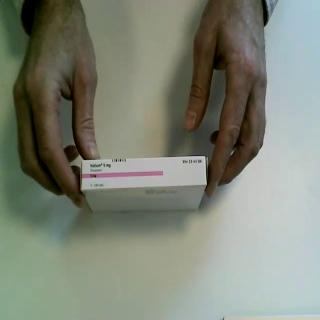valium5mg: (80, 154, 210, 217)
